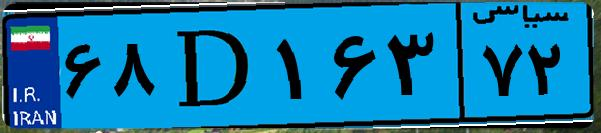1: (270, 28, 330, 110)
2: (525, 38, 570, 115)
3: (385, 28, 445, 110)
6: (330, 28, 385, 110), (57, 26, 110, 100)
7: (475, 38, 525, 113)
8: (110, 28, 158, 98)
D: (158, 12, 270, 120)
